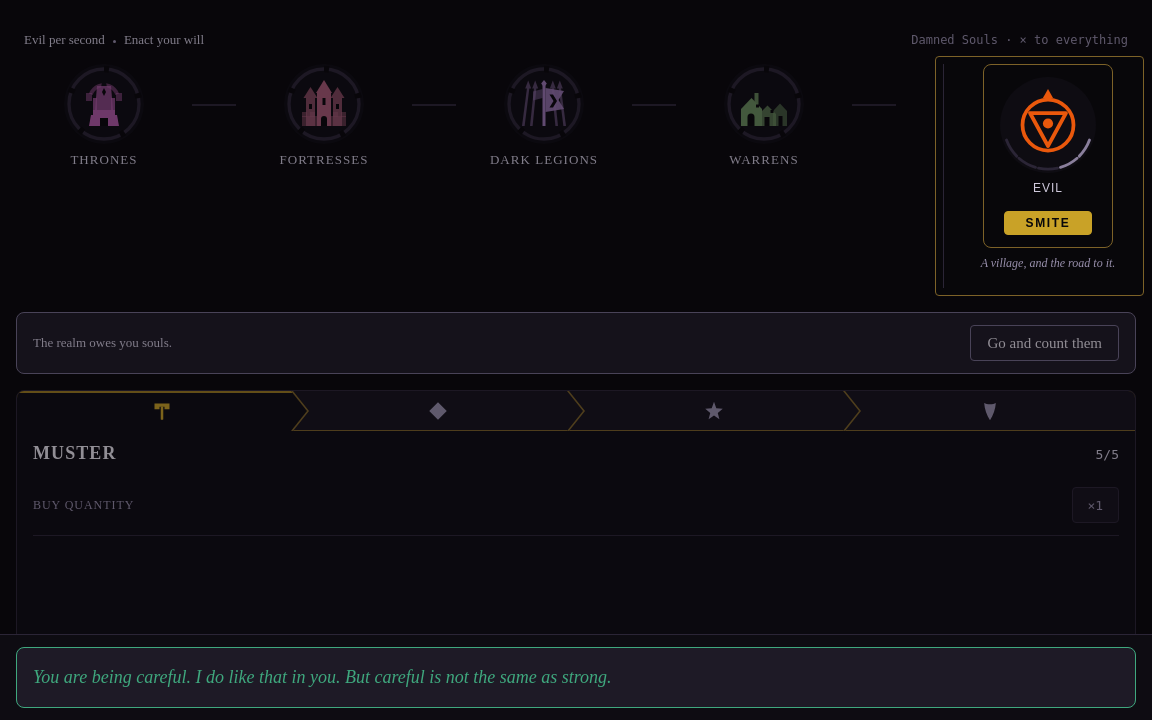
Test case: the engine's answer decides, not the click › moves her to her next line when the blow lands
Expected: the text "You are being careful. I do like that in you. But careful is not the same as strong." is shown, [33,667,612,687]
Step 1. Click the button "Evil Smite" → [1048, 156], box [983,64,1113,248]
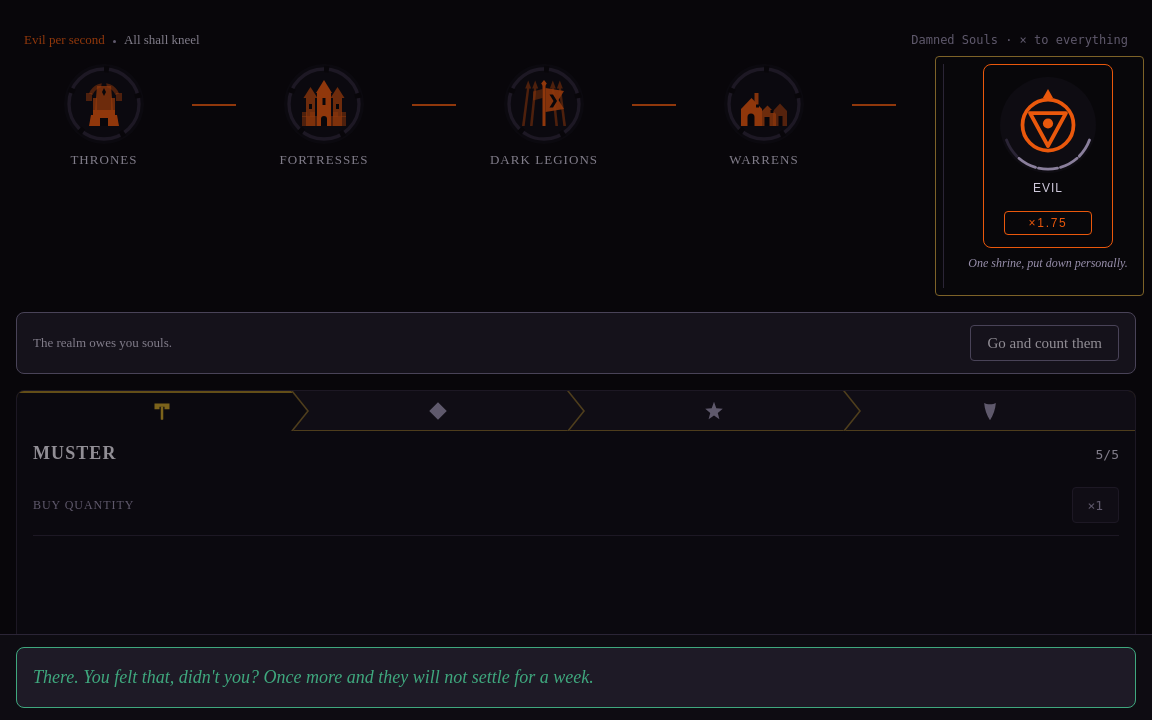
Result: the text "There. You felt that, didn't you? Once more and they will not settle for a week." is shown at [33,667,594,687]
